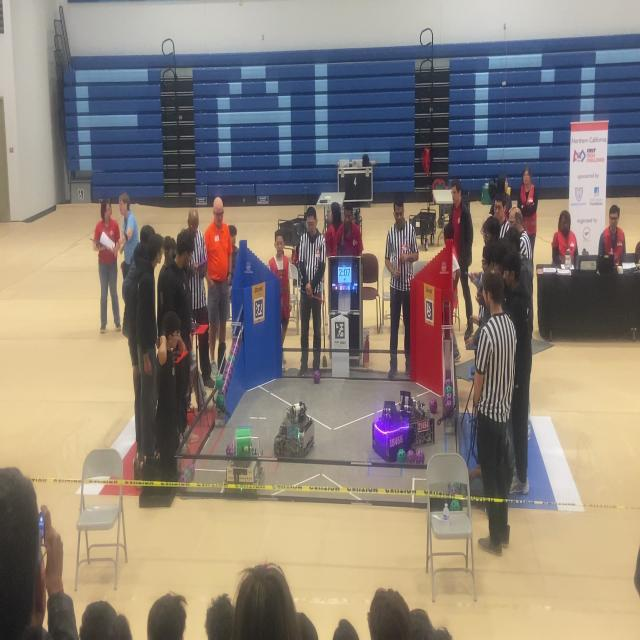artifact_green: (449, 498, 461, 511), (216, 392, 224, 410), (189, 463, 195, 479), (228, 354, 235, 364), (445, 386, 452, 394)
artifact_purple: (225, 369, 232, 393), (216, 390, 224, 410), (428, 398, 437, 414), (444, 400, 452, 416), (397, 449, 406, 463), (216, 374, 223, 390), (183, 468, 191, 482), (416, 450, 424, 464), (226, 443, 234, 457), (407, 450, 415, 463), (189, 463, 195, 478), (222, 381, 228, 395), (235, 341, 241, 355), (231, 346, 238, 358), (314, 370, 320, 383), (231, 338, 237, 351), (229, 353, 235, 365), (444, 394, 452, 403), (230, 360, 234, 377), (180, 472, 186, 483), (445, 386, 452, 394), (445, 379, 451, 386)
